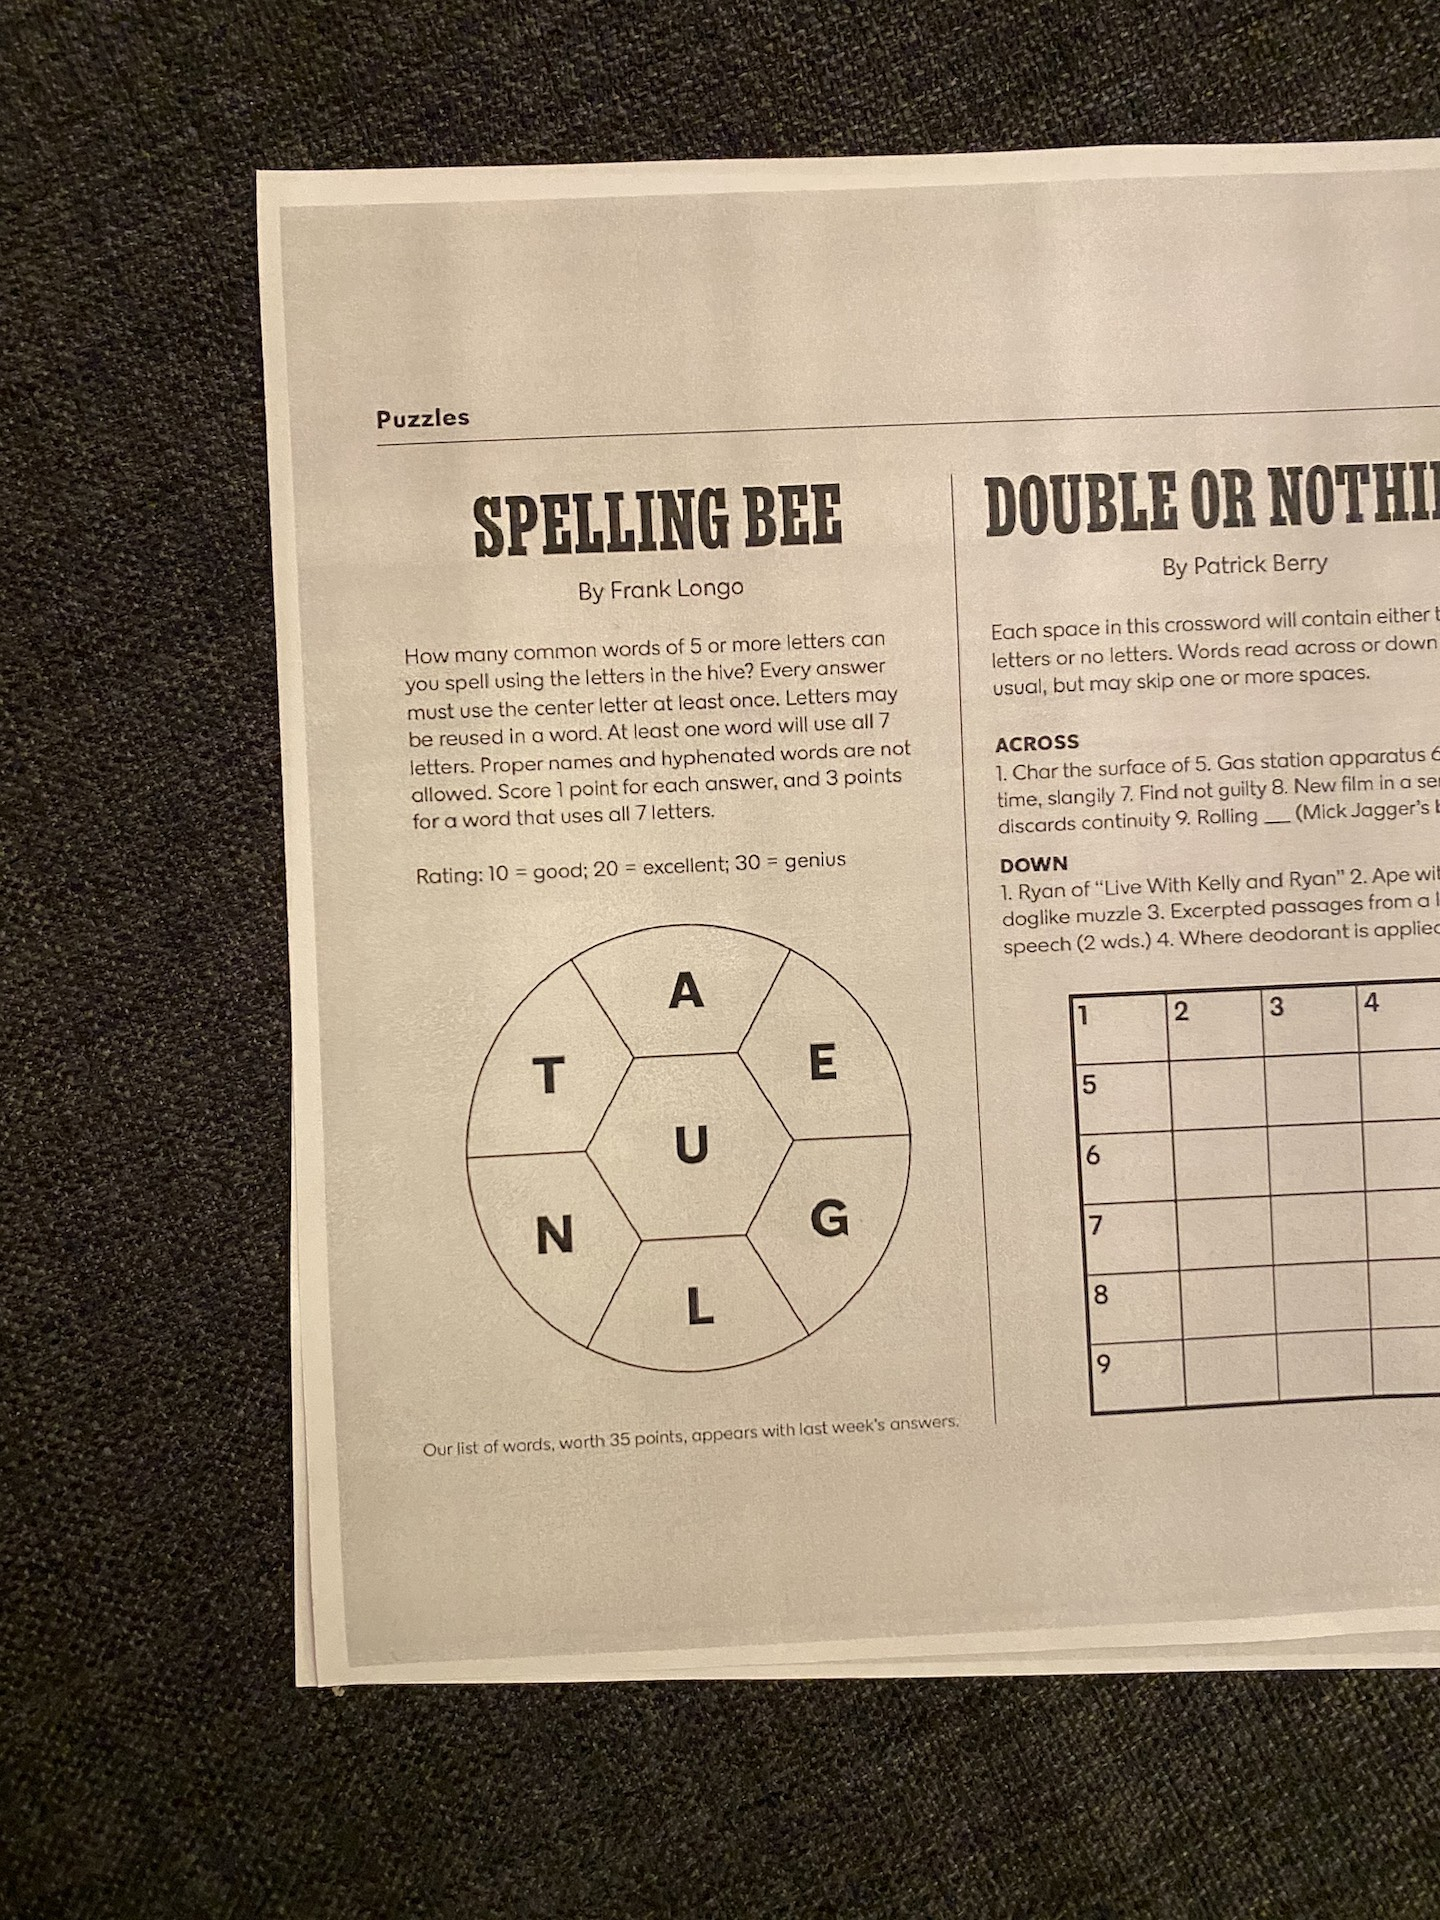PrintBoard: (440, 924, 927, 1386)
